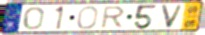1: (53, 6, 66, 31)
5: (132, 4, 159, 30)
O: (76, 5, 100, 30), (22, 6, 45, 31)
R: (99, 5, 127, 30)
V: (160, 4, 185, 30)
